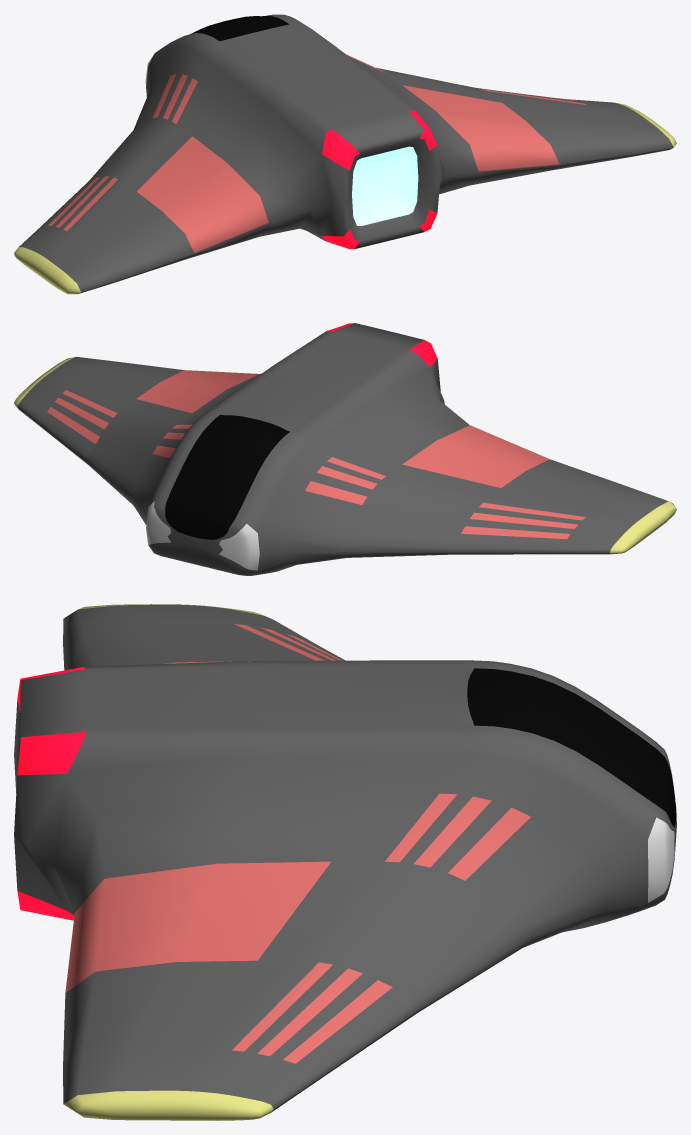
Rendered from Spaceship2Test.fbx.
3 renders of one model, top to bottom at view 1: azimuth 30°, elevation 25°; view 2: azimuth 150°, elevation 25°; view 3: azimuth 270°, elevation 25°, orthographic. The views are drawn at different scales.
Parts seen in each view (by area): view 1: Ship; view 2: Ship; view 3: Ship.
Part boxes in pixels (x1=…): Ship: x1=14, y1=14, x2=676, y2=294; Ship: x1=14, y1=323, x2=676, y2=575; Ship: x1=14, y1=604, x2=676, y2=1120.
Bounding box in the file's own units: 8818 × 1647 × 4935.
